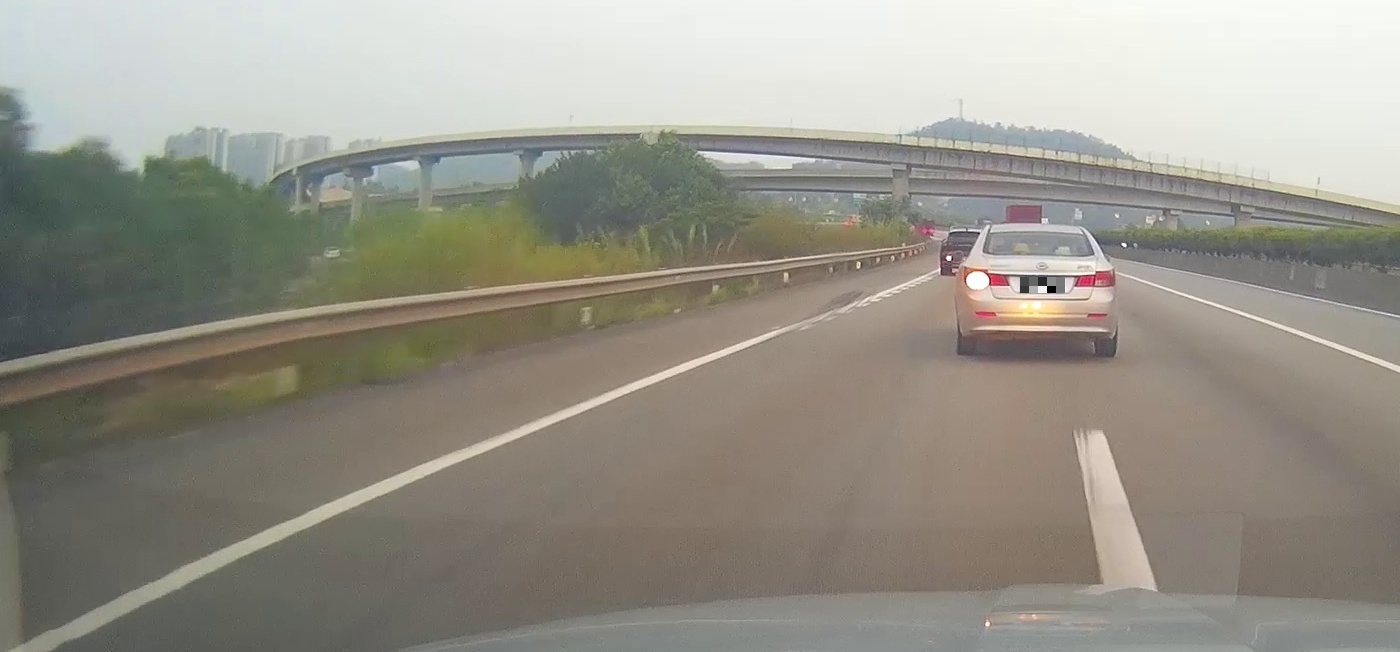L_light: (964, 265, 1010, 290)
R_light: (1075, 267, 1116, 288)
T_light: (1028, 231, 1050, 236)
day-left: (954, 223, 1117, 357)
plate_1: (1020, 277, 1065, 293)
